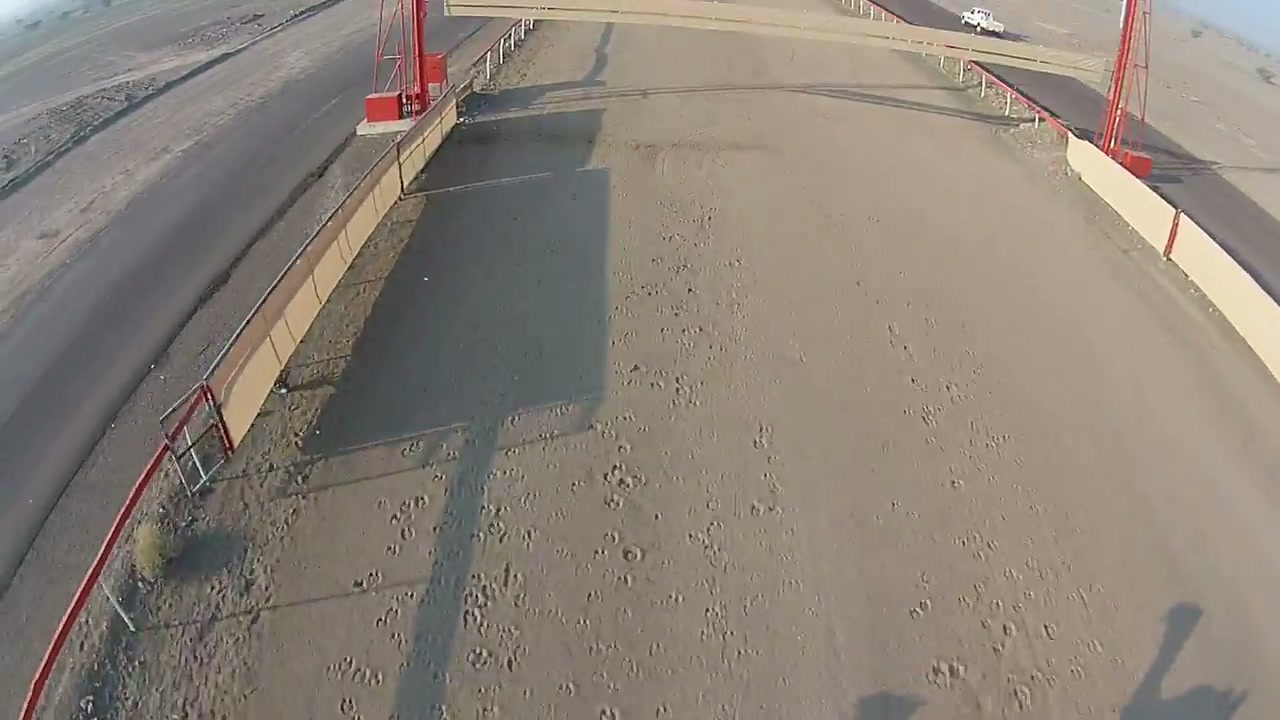animal_footprint: (320, 391, 669, 708)
